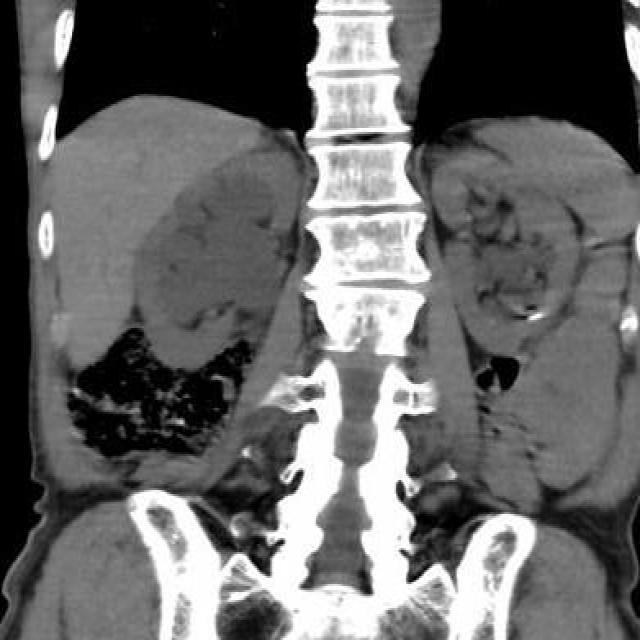Tas_Var: (526, 311, 544, 323)
